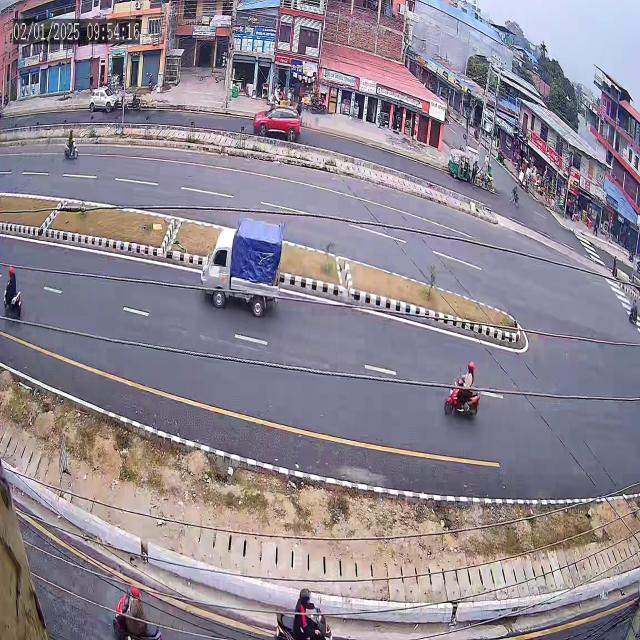car: (248, 91, 303, 158)
motorcycle: (258, 567, 342, 640), (438, 345, 489, 427), (107, 559, 156, 640), (0, 243, 31, 334), (55, 121, 84, 171)
van: (197, 201, 290, 331)
